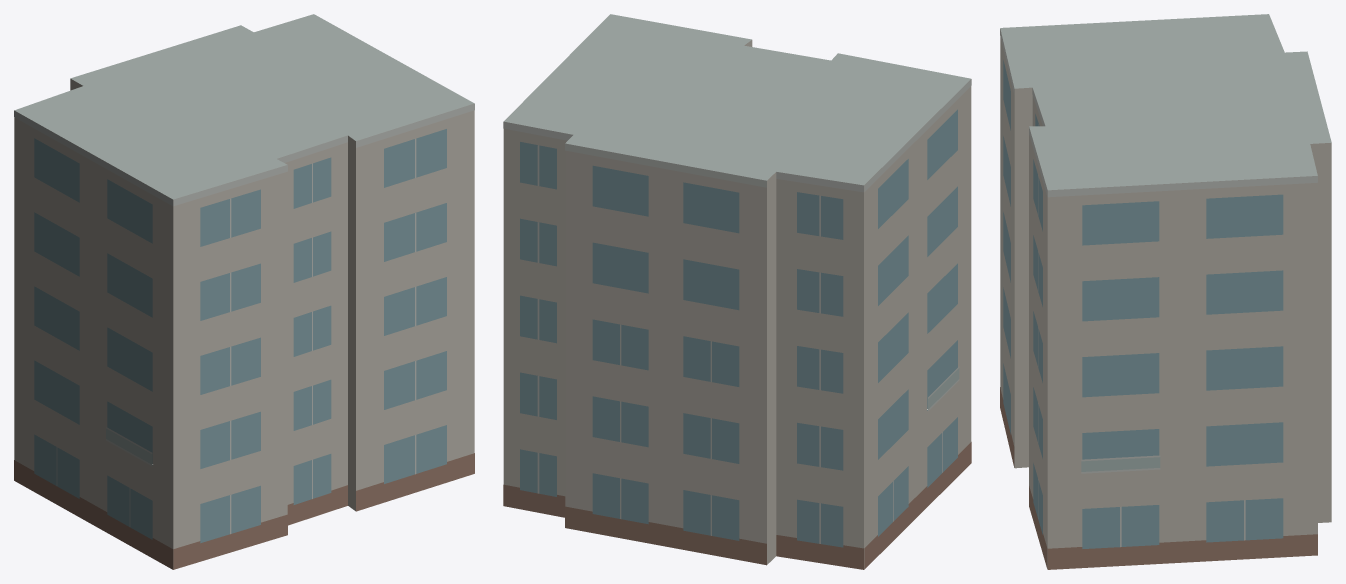
Rendered from survey-upis-32985731.glb.
The picture shows the model from 3 angles, left to right: view 1: azimuth 30°, elevation 25°; view 2: azimuth 150°, elevation 25°; view 3: azimuth 270°, elevation 25°; orthographic projection. The views are drawn at different scales.
Parts seen in each view (by area): view 1: survey-upis-32985731.tmp; view 2: survey-upis-32985731.tmp; view 3: survey-upis-32985731.tmp.
Boxes of the visible parts, x1,y1,x2,y2 form: survey-upis-32985731.tmp: (14, 14, 474, 569); survey-upis-32985731.tmp: (503, 14, 971, 569); survey-upis-32985731.tmp: (1000, 14, 1331, 569).
Bounding box in the file's own units: 13.26 × 13.3 × 10.54.
